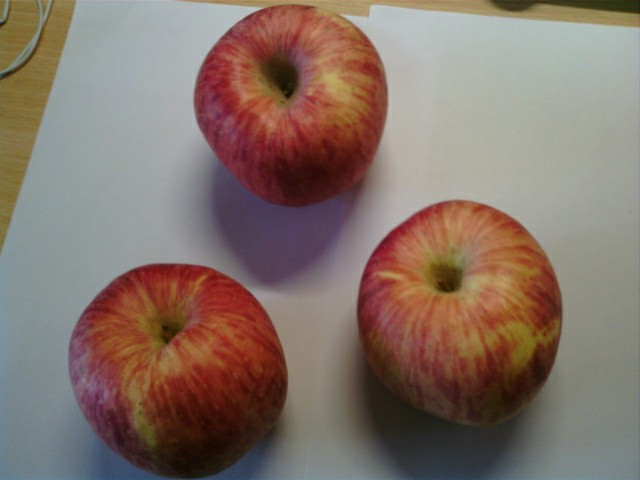normal_apple: (65, 262, 290, 480), (357, 199, 565, 425), (193, 3, 388, 209)
